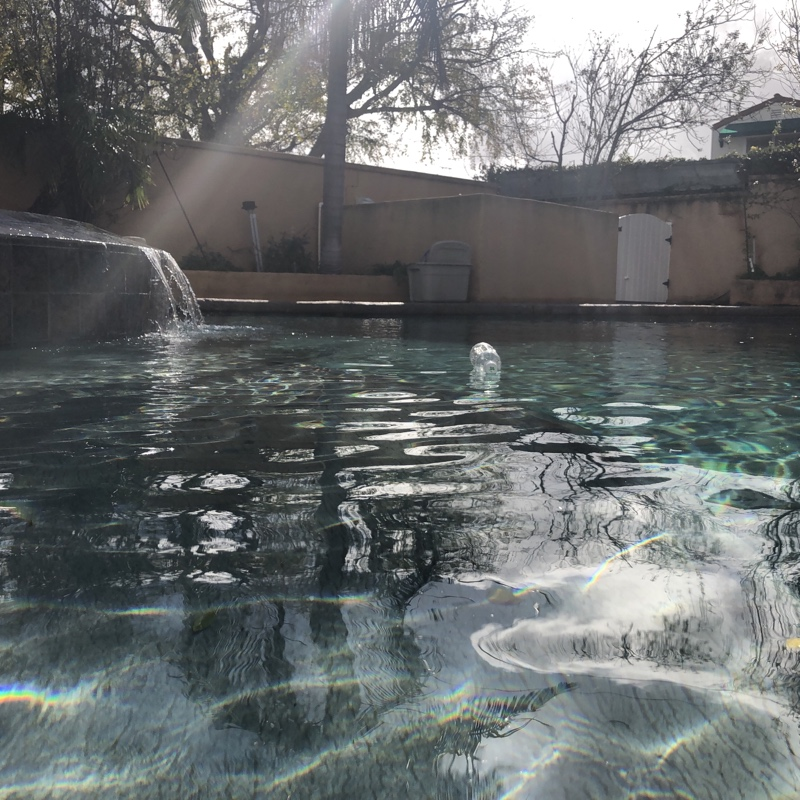Plastic Bottle: (466, 342, 505, 381)
